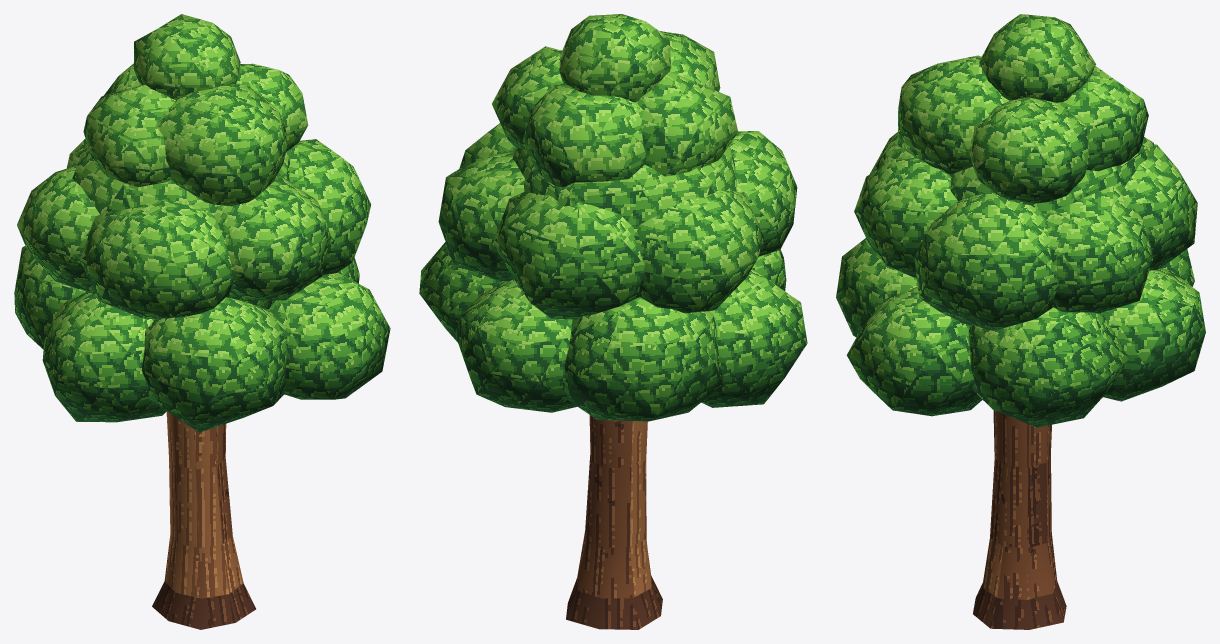
File: tree_round_b.glb
3 renders of one model, left to right at view 1: azimuth 30°, elevation 25°; view 2: azimuth 150°, elevation 25°; view 3: azimuth 270°, elevation 25°, orthographic. The views are drawn at different scales.
Visible parts, largest first — view 1: tree_round_b; view 2: tree_round_b; view 3: tree_round_b.
Boxes of the visible parts, left/top/right/bottom form: tree_round_b: left=14, top=14, right=390, bottom=629; tree_round_b: left=419, top=14, right=807, bottom=629; tree_round_b: left=836, top=14, right=1205, bottom=629.
Size of the model in its own units: 4.07 by 6.73 by 3.86.
1 material, 1 textured.
